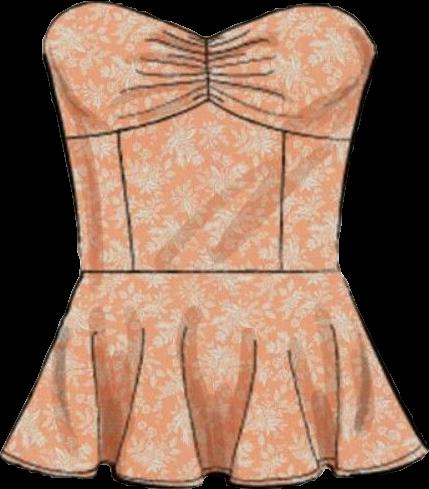Bodice: (0, 2, 428, 487)
Neckline: (39, 0, 378, 55), (61, 94, 355, 141), (79, 266, 341, 274)
Waistline: (0, 450, 428, 488)
